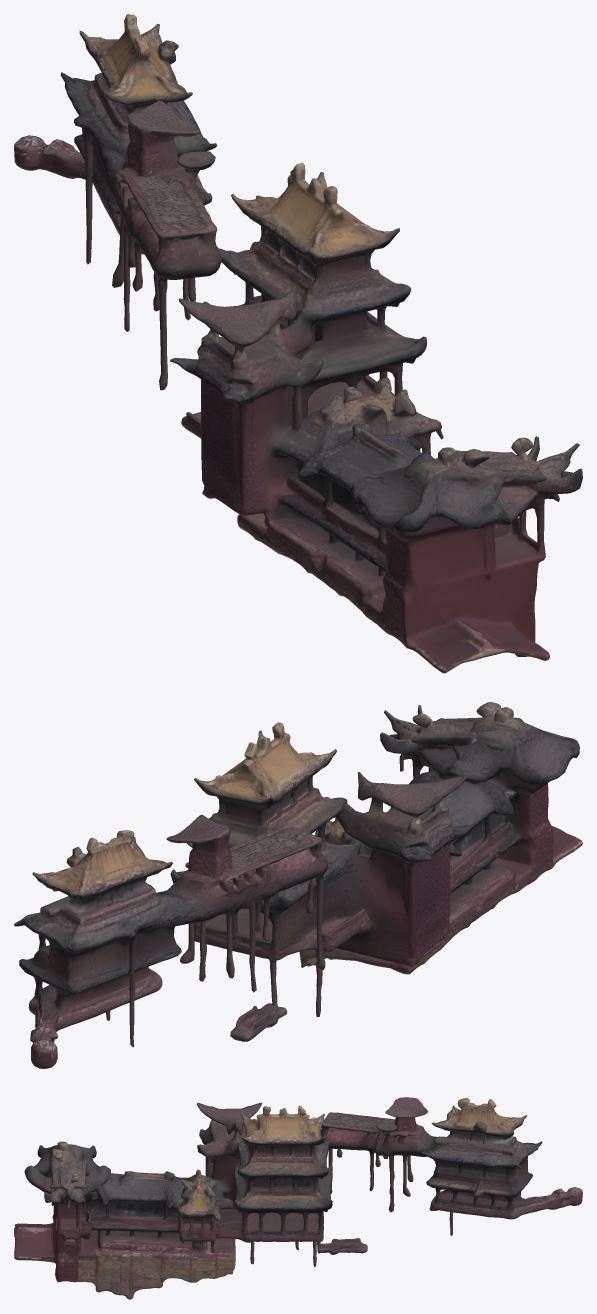
Rendered from building-xuankongsi.glb.
3 renders of one model, top to bottom at view 1: azimuth 30°, elevation 25°; view 2: azimuth 150°, elevation 25°; view 3: azimuth 270°, elevation 25°, orthographic. The views are drawn at different scales.
Visible parts, largest first — view 1: node_7cfce70b-5b76-491c-a47a-12a9b82c1ec1; view 2: node_7cfce70b-5b76-491c-a47a-12a9b82c1ec1; view 3: node_7cfce70b-5b76-491c-a47a-12a9b82c1ec1.
Boxes of the visible parts, x1=… form: node_7cfce70b-5b76-491c-a47a-12a9b82c1ec1: x1=14, y1=14, x2=582, y2=673; node_7cfce70b-5b76-491c-a47a-12a9b82c1ec1: x1=14, y1=702, x2=582, y2=1068; node_7cfce70b-5b76-491c-a47a-12a9b82c1ec1: x1=14, y1=1097, x2=582, y2=1299.
Size of the model in its own units: 0.2654 by 0.3888 by 1.
1 material, 1 textured.
